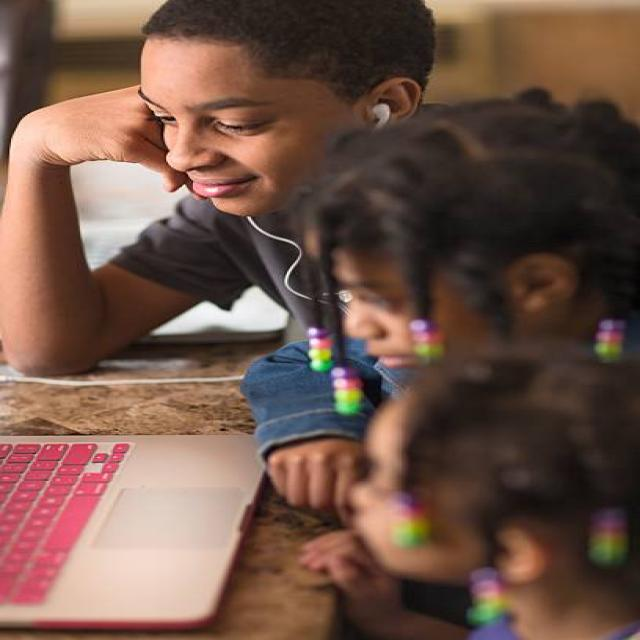Earphone: (242, 100, 395, 302)
